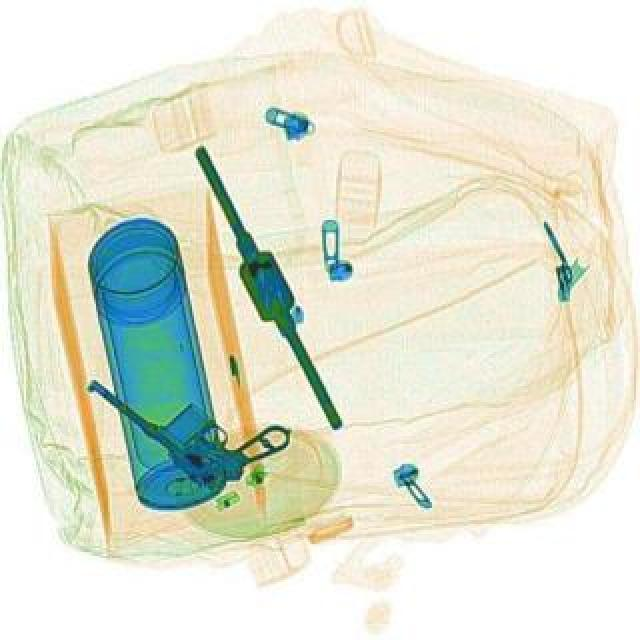gun: (80, 320, 296, 508)
